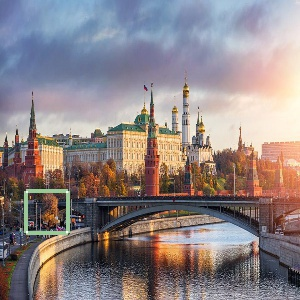square: (23, 188, 70, 237)
